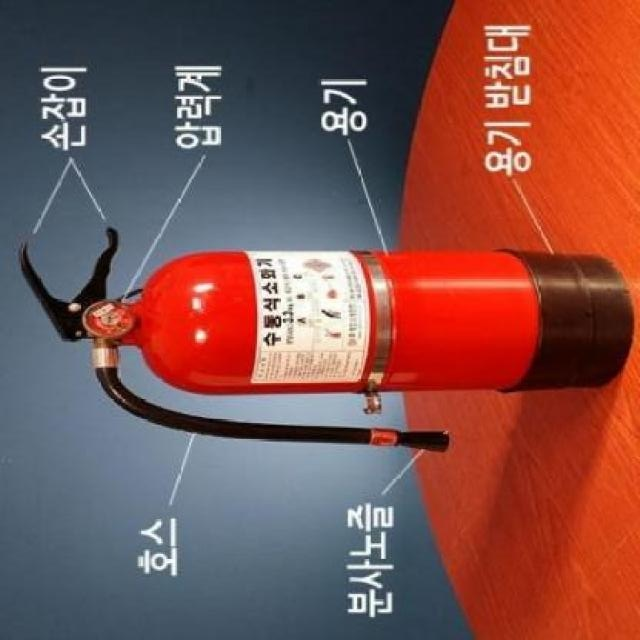fire extinguisher: (17, 225, 634, 452)
